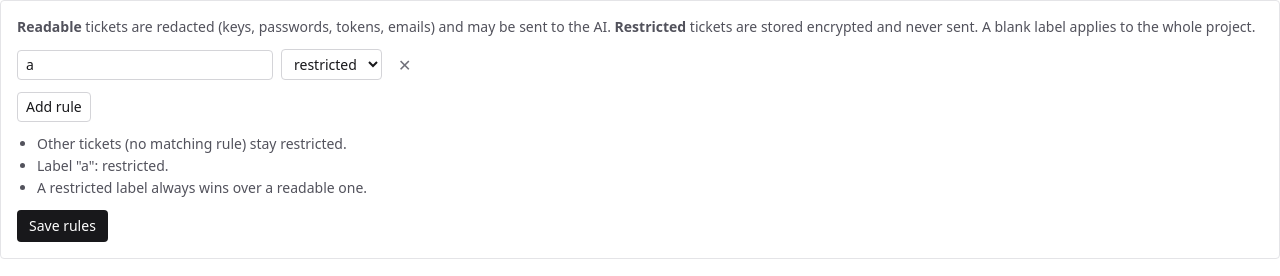
it: PolicyEditor › shows an error and keeps the draft when saving fails
Click the button "Save rules": x=62, y=226 [17,210,108,242]
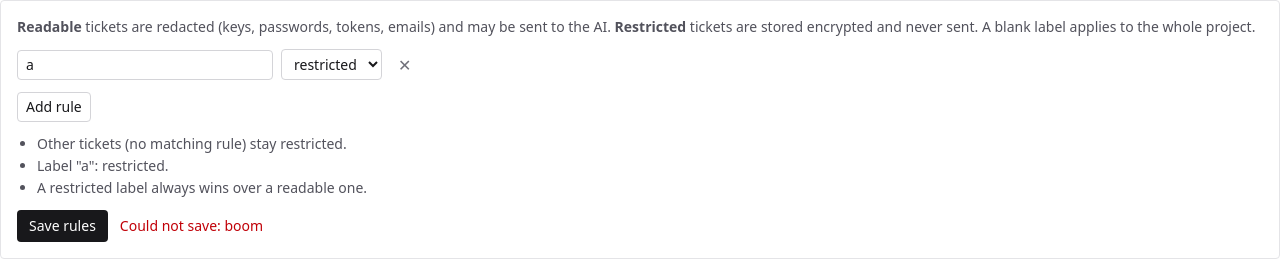
Expected: the field named "label" holds "a", [17,50,273,80]
Expected: the text "Could not save" is shown, [120,216,263,235]
